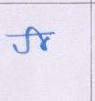i_matra: (28, 26, 49, 51)
